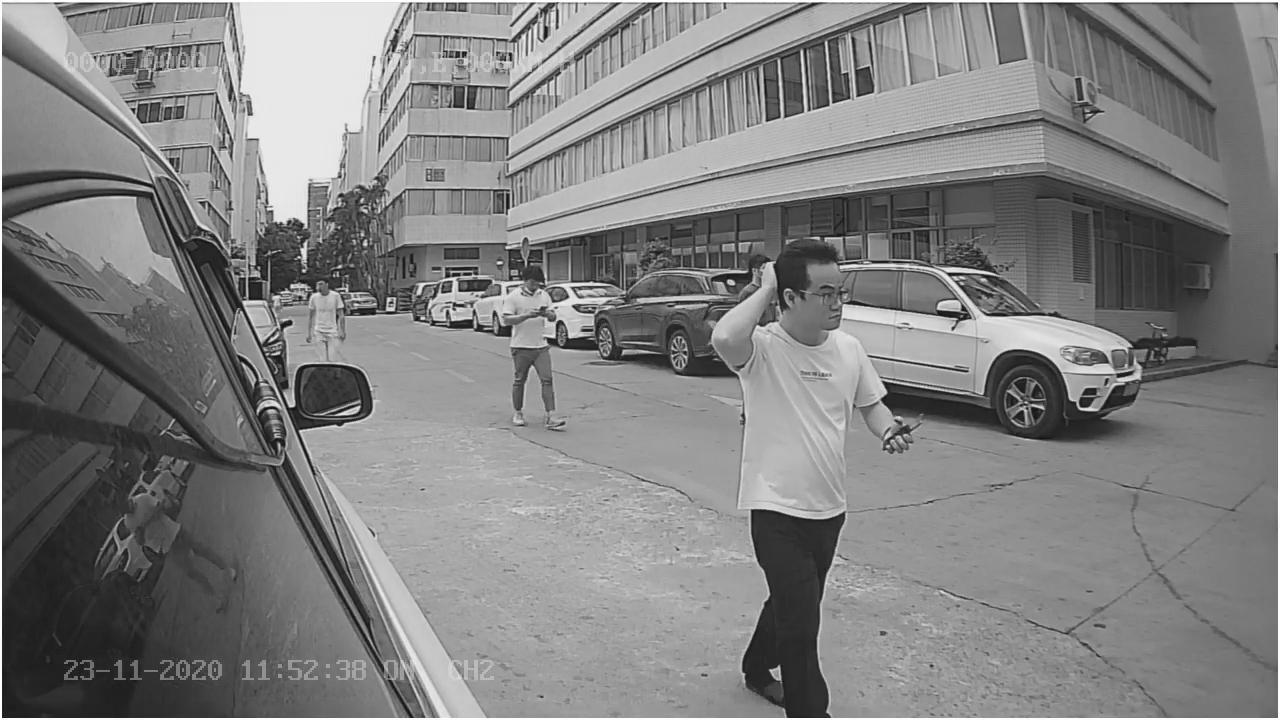person: (725, 236, 905, 704)
